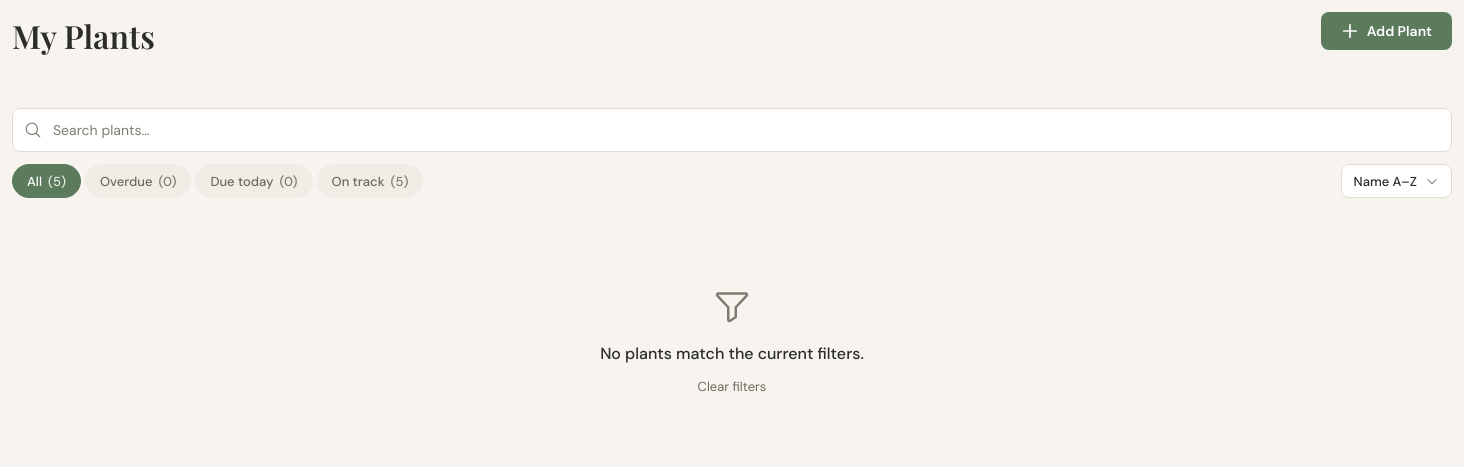
Test: InventoryPage — empty states (SPEC §5) › §5c — combined search + filter empty state
// Set search.
Type "fern" into the search field labelled "Search plants".
click(732, 130); type("fern")  # box x1=12 y1=108 x2=1452 y2=152
Wait 300 ms
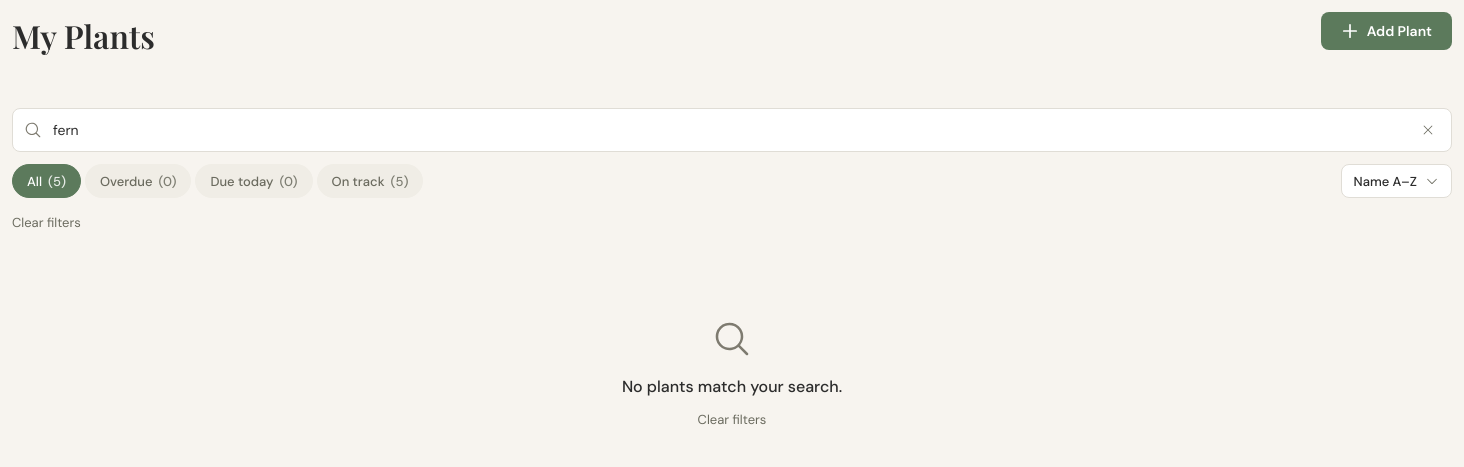
// Set filter.
Click the radio button with aria-label "Overdue plants, 0 results".
click(138, 181)  # box x1=85 y1=164 x2=191 y2=198
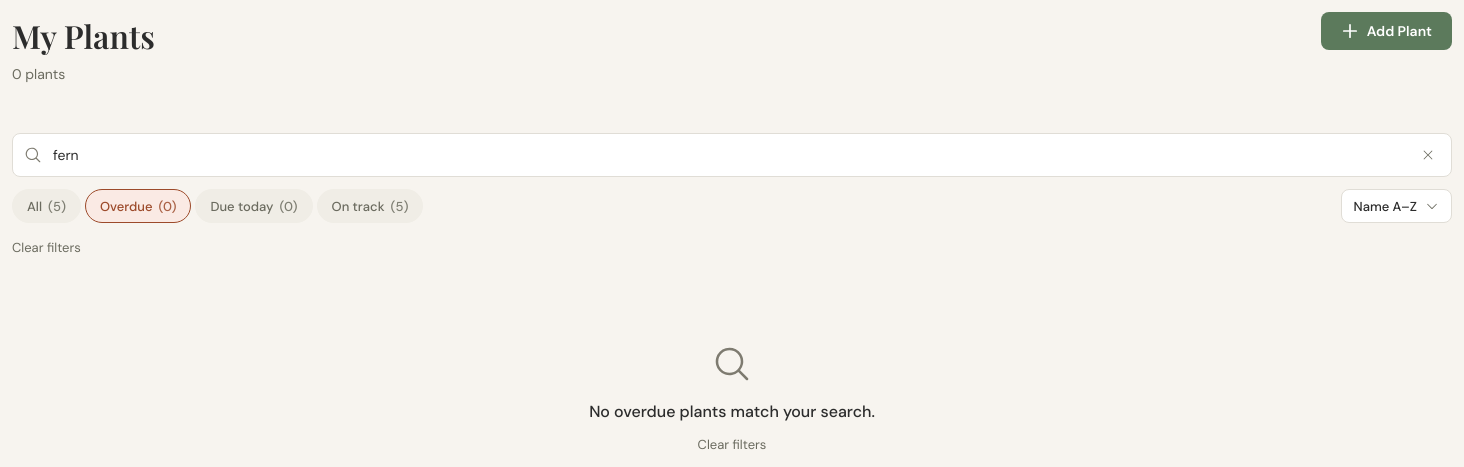
Result: the text "No overdue plants match your search." is shown at x1=589 y1=400 x2=875 y2=424
